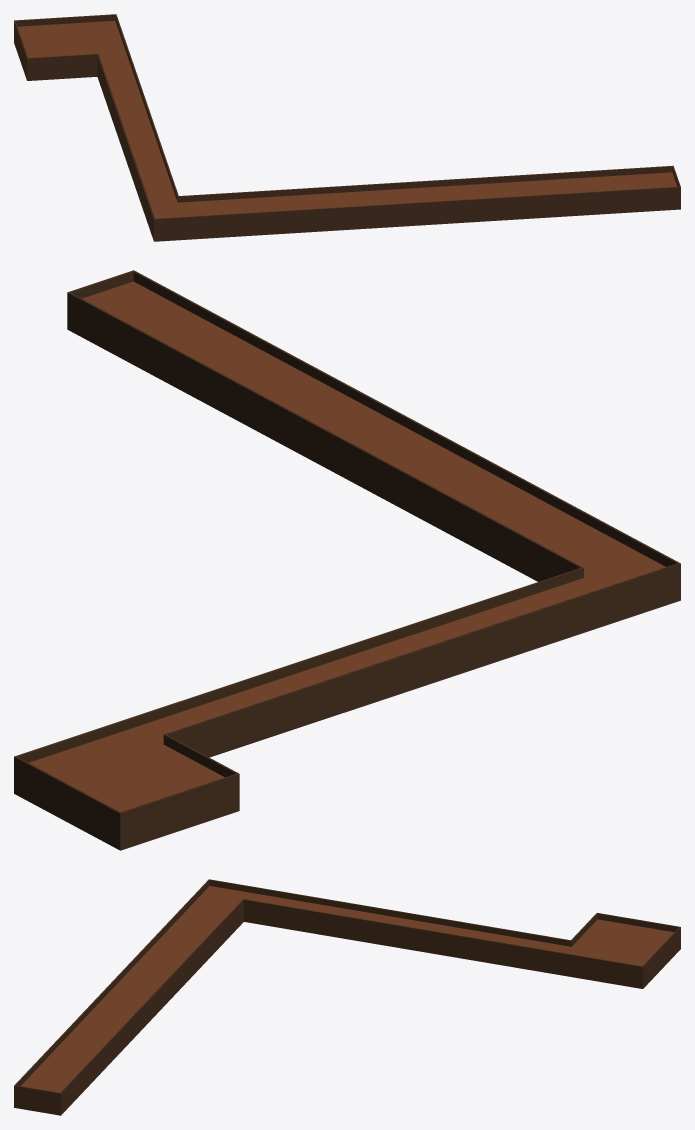
Rendered from MSH_Jardinera-torre-C.fbx.
3 views of the same model, one above another, from view 1: azimuth 30°, elevation 25°; view 2: azimuth 150°, elevation 25°; view 3: azimuth 270°, elevation 25° (orthographic). The views are drawn at different scales.
Visible parts, largest first — view 1: MSH_Jardinera-torre-C; view 2: MSH_Jardinera-torre-C; view 3: MSH_Jardinera-torre-C.
Part boxes in pixels (x1,y1,x2,y2): MSH_Jardinera-torre-C: (14, 14, 680, 241); MSH_Jardinera-torre-C: (14, 270, 680, 850); MSH_Jardinera-torre-C: (14, 879, 680, 1115).
Size of the model in its own units: 1701 by 81.71 by 2236.
